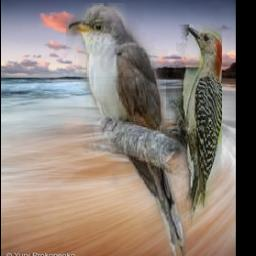Cuckoo: (67, 4, 189, 256)
Woodpecker: (167, 26, 223, 227)
